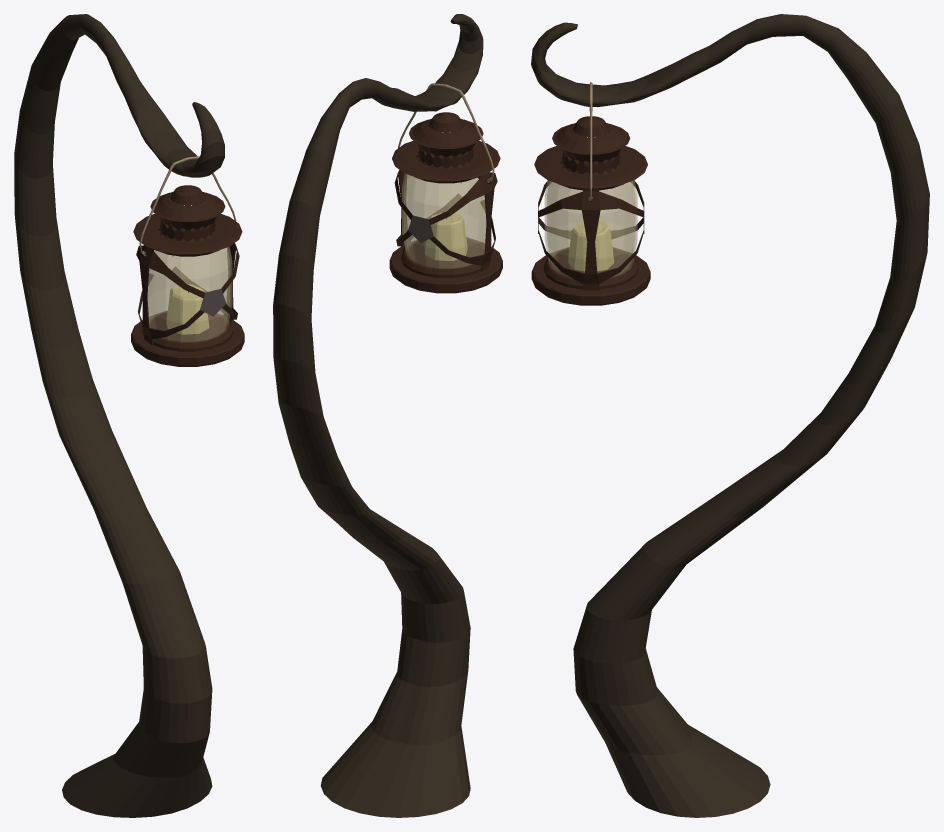
Rendered from Roadlight.fbx.
3 renders of one model, left to right at view 1: azimuth 30°, elevation 25°; view 2: azimuth 150°, elevation 25°; view 3: azimuth 270°, elevation 25°, orthographic. The views are drawn at different scales.
Visible parts, largest first — view 1: Lamppost, Lantern, Candle; view 2: Lamppost, Lantern, Candle; view 3: Lamppost, Lantern, Candle.
Boxes of the visible parts, x1,y1,x2,y2 form: Lamppost: (14, 14, 224, 817); Lantern: (131, 156, 244, 366); Candle: (166, 284, 209, 334); Lamppost: (273, 14, 483, 817); Lantern: (389, 83, 502, 293); Candle: (425, 213, 467, 261); Lamppost: (531, 14, 929, 817); Lantern: (531, 82, 650, 305); Candle: (568, 219, 614, 271).
Size of the model in its own units: 122 by 644 by 302.
